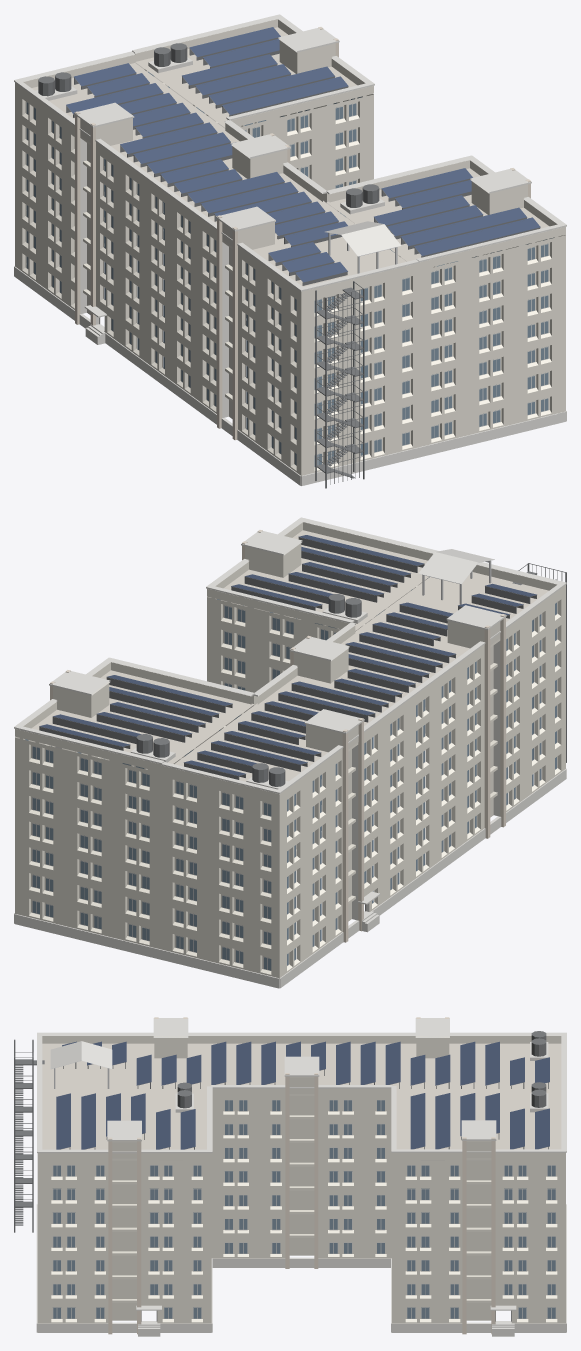
Rendered from Brahmaputra_Hostel.fbx.
3 views of the same model, one above another, from view 1: azimuth 30°, elevation 25°; view 2: azimuth 150°, elevation 25°; view 3: azimuth 270°, elevation 25° (orthographic). The views are drawn at different scales.
Visible parts, largest first — view 1: Brahmaputra_Hostel; view 2: Brahmaputra_Hostel; view 3: Brahmaputra_Hostel.
Part boxes in pixels (x1,y1,x2,y2): Brahmaputra_Hostel: (14,14,566,488); Brahmaputra_Hostel: (14,517,566,988); Brahmaputra_Hostel: (14,1017,566,1336).
Bounding box in the file's own units: 39 × 28.82 × 71.8.
